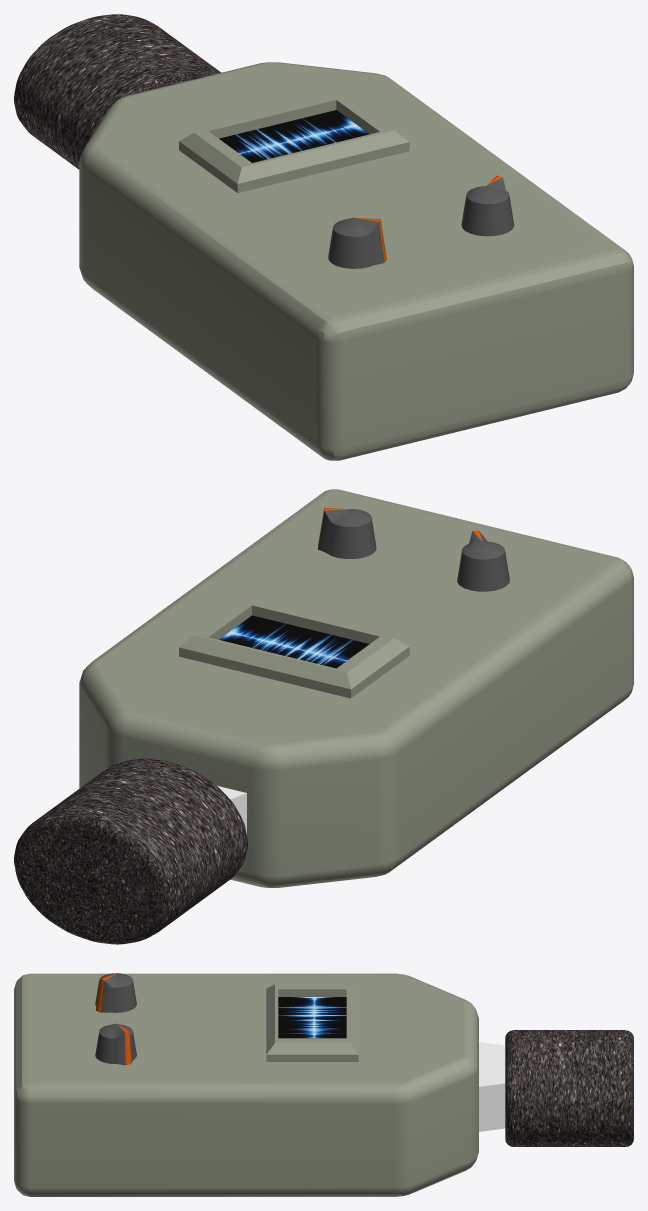
Rendered from Microphone.fbx.
The picture shows the model from 3 angles, top to bottom: view 1: azimuth 30°, elevation 25°; view 2: azimuth 150°, elevation 25°; view 3: azimuth 270°, elevation 25°; orthographic projection. The views are drawn at different scales.
Parts seen in each view (by area): view 1: pCube7; view 2: pCube7; view 3: pCube7.
Boxes of the visible parts, x1=… form: pCube7: x1=14, y1=14, x2=633, y2=460; pCube7: x1=14, y1=489, x2=633, y2=944; pCube7: x1=14, y1=973, x2=633, y2=1196.
Size of the model in its own units: 1 by 0.5542 by 2.16.
